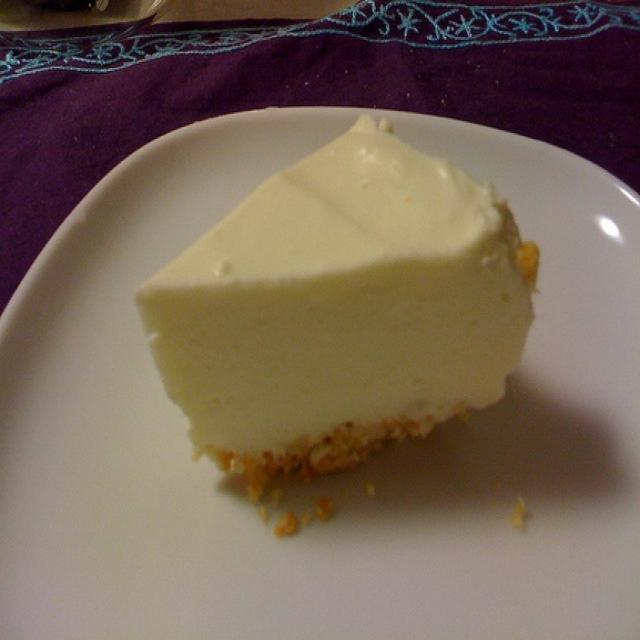Rare cheese cake: (112, 103, 560, 543)
